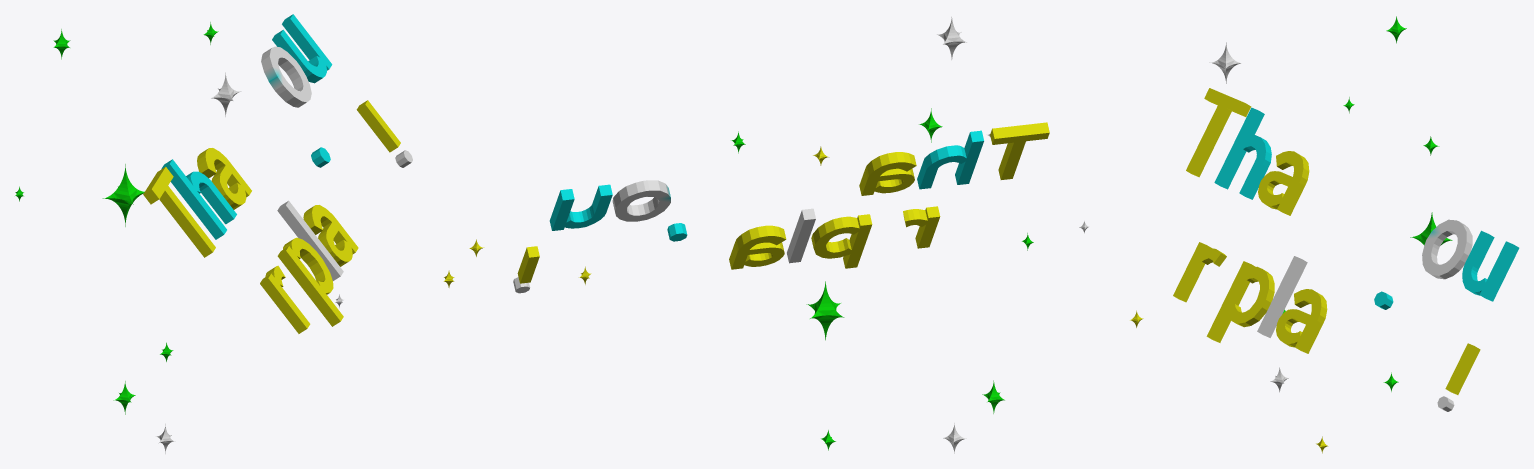
Rendered from thank_you_y.obj.
3 renders of one model, left to right at view 1: azimuth 30°, elevation 25°; view 2: azimuth 150°, elevation 25°; view 3: azimuth 270°, elevation 25°, orthographic. The views are drawn at different scales.
Parts seen in each view (by area): view 1: YMesh ZMesh, XMesh YMesh, YMesh, XMesh YMesh ZMesh; view 2: YMesh ZMesh, XMesh YMesh, YMesh, XMesh YMesh ZMesh; view 3: YMesh ZMesh, XMesh YMesh, YMesh, XMesh YMesh ZMesh.
Part boxes in pixels (<box>): YMesh ZMesh: <box>143,100,484,333</box>; XMesh YMesh: <box>161,14,332,239</box>; YMesh: <box>156,46,412,453</box>; XMesh YMesh ZMesh: <box>15,22,218,414</box>; YMesh ZMesh: <box>517,122,1049,284</box>; XMesh YMesh: <box>549,130,983,241</box>; YMesh: <box>513,17,990,453</box>; XMesh YMesh ZMesh: <box>731,108,1033,450</box>; YMesh ZMesh: <box>1130,88,1480,453</box>; XMesh YMesh: <box>1214,107,1519,309</box>; YMesh: <box>1079,42,1472,411</box>; XMesh YMesh ZMesh: <box>1282,16,1452,391</box>.
Size of the model in its own units: 9.28 by 7.74 by 8.41.
